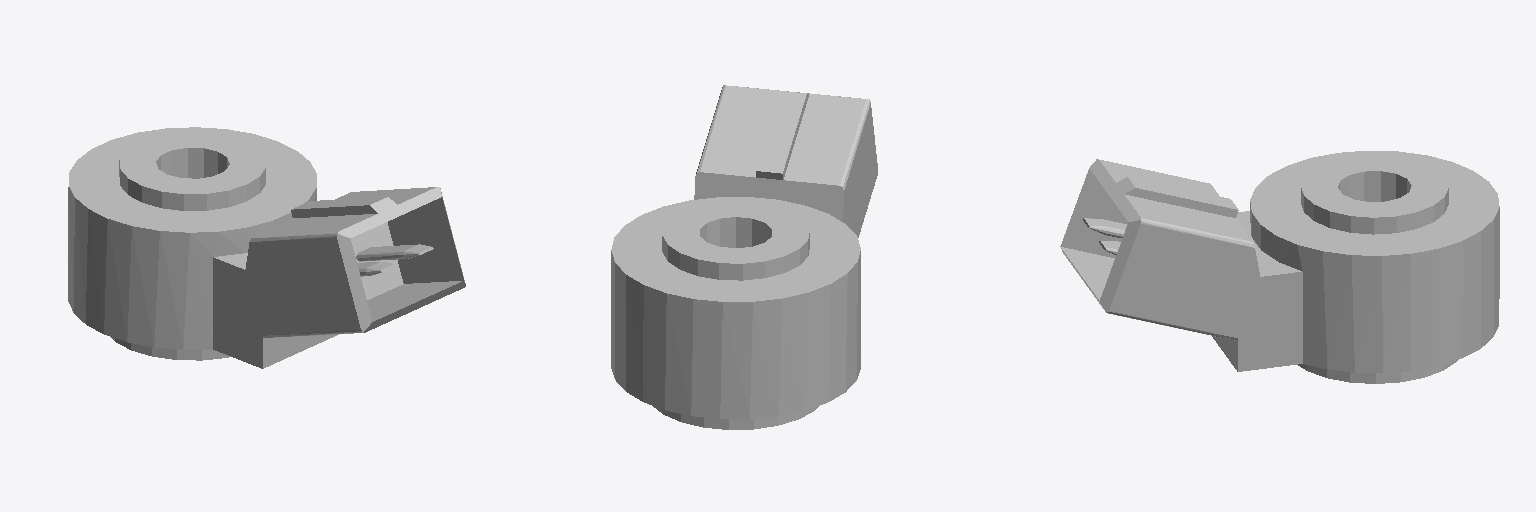
Rendered from Датчик детонации.obj.
The picture shows the model from 3 angles: view 1: azimuth 30°, elevation 25°; view 2: azimuth 150°, elevation 25°; view 3: azimuth 270°, elevation 25°; orthographic projection.
Visible parts, largest first — view 1: Датчик_детонации; view 2: Датчик_детонации; view 3: Датчик_детонации.
Part boxes in pixels (x1,y1,x2,y2): Датчик_детонации: (68,127,465,368); Датчик_детонации: (611,85,877,429); Датчик_детонации: (1060,151,1499,383).
Bounding box in the file's own units: 30.89 × 23.26 × 47.44.